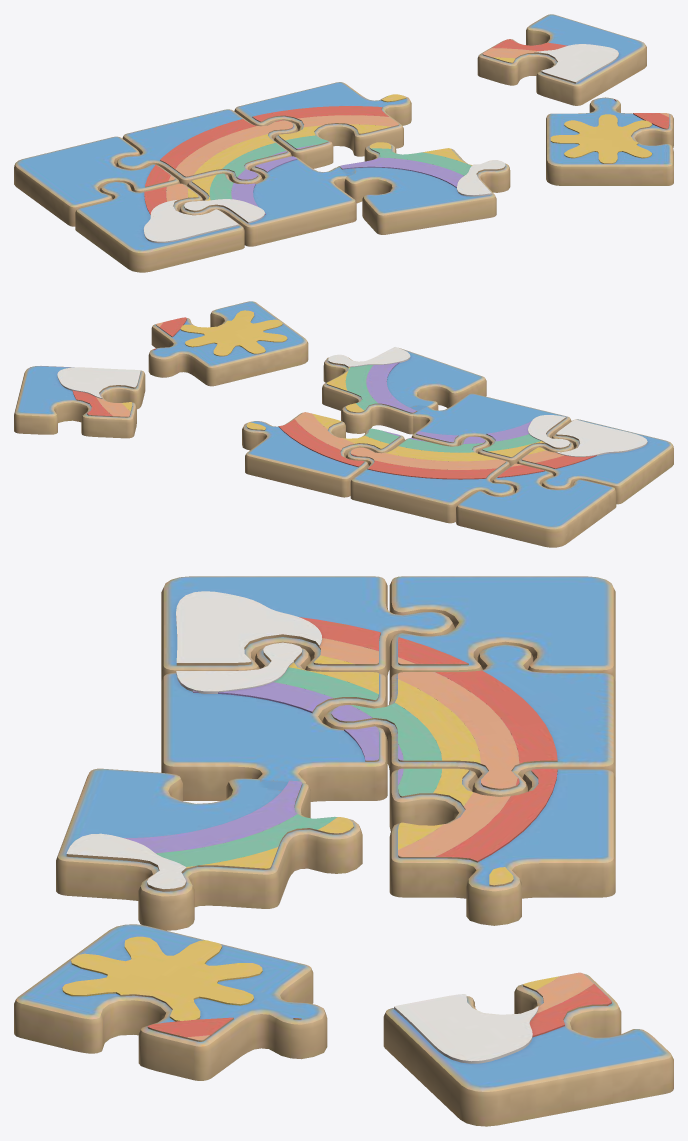
Rendered from puzle.glb.
3 renders of one model, top to bottom at view 1: azimuth 30°, elevation 25°; view 2: azimuth 150°, elevation 25°; view 3: azimuth 270°, elevation 25°, orthographic. The views are drawn at different scales.
Visible parts, largest first — view 1: puzzle-pieces_body; view 2: puzzle-pieces_body; view 3: puzzle-pieces_body.
Part boxes in pixels (bbox=[...]): puzzle-pieces_body: bbox=[14, 14, 673, 272]; puzzle-pieces_body: bbox=[14, 301, 673, 547]; puzzle-pieces_body: bbox=[14, 576, 673, 1126].
Bounding box in the file's own units: 0.3757 × 0.0129 × 0.2025.
1 material, 1 textured.
